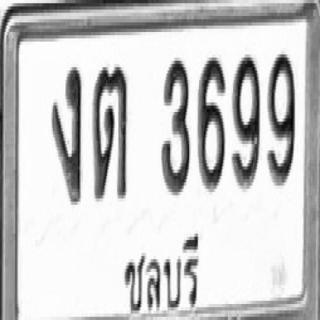A07: (51, 64, 81, 205)
A21: (93, 62, 128, 200)
N03: (160, 58, 190, 195)
N06: (197, 54, 225, 189)
N09: (267, 51, 295, 186), (232, 54, 260, 189)
P13: (120, 220, 202, 320)
